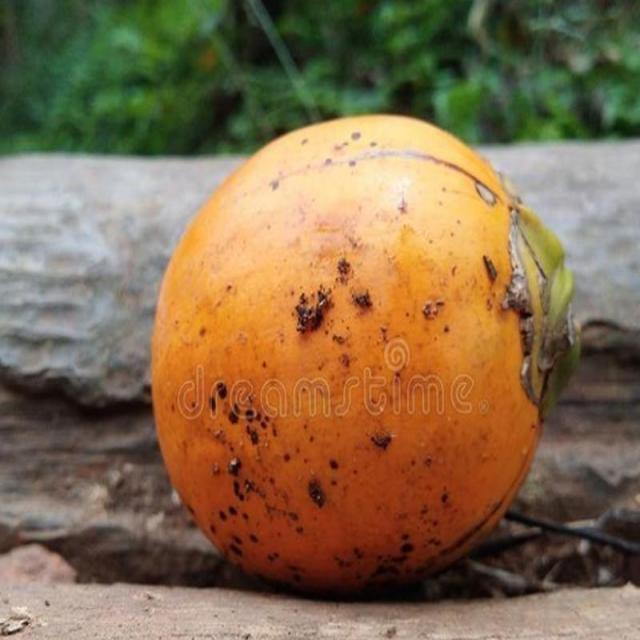good: (149, 115, 580, 603)
